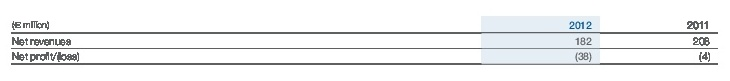table: (0, 0, 730, 81)
